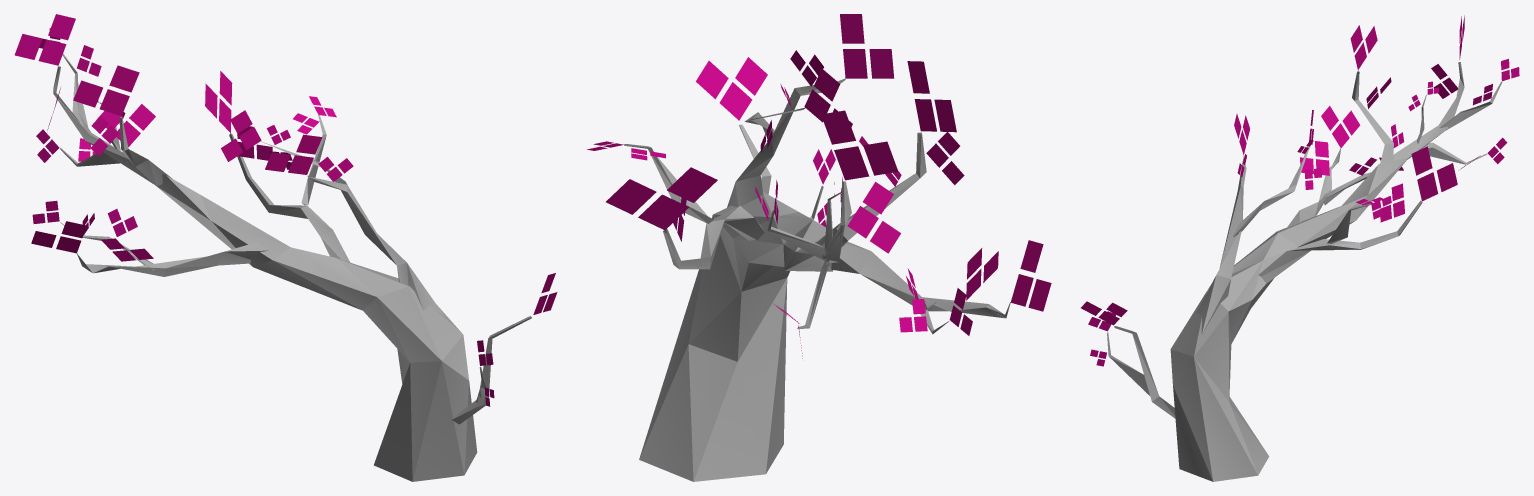
The model's file is Deeptree02_LOD-02.fbx.
3 renders of one model, left to right at view 1: azimuth 30°, elevation 25°; view 2: azimuth 150°, elevation 25°; view 3: azimuth 270°, elevation 25°, orthographic. The views are drawn at different scales.
Visible parts, largest first — view 1: Deeptree02_LOD_01; view 2: Deeptree02_LOD_01; view 3: Deeptree02_LOD_01.
Boxes of the visible parts, x1,y1,x2,y2 form: Deeptree02_LOD_01: [14, 14, 557, 481]; Deeptree02_LOD_01: [587, 14, 1051, 481]; Deeptree02_LOD_01: [1081, 15, 1519, 481].
Bounding box in the file's own units: 137 × 137 × 156.
